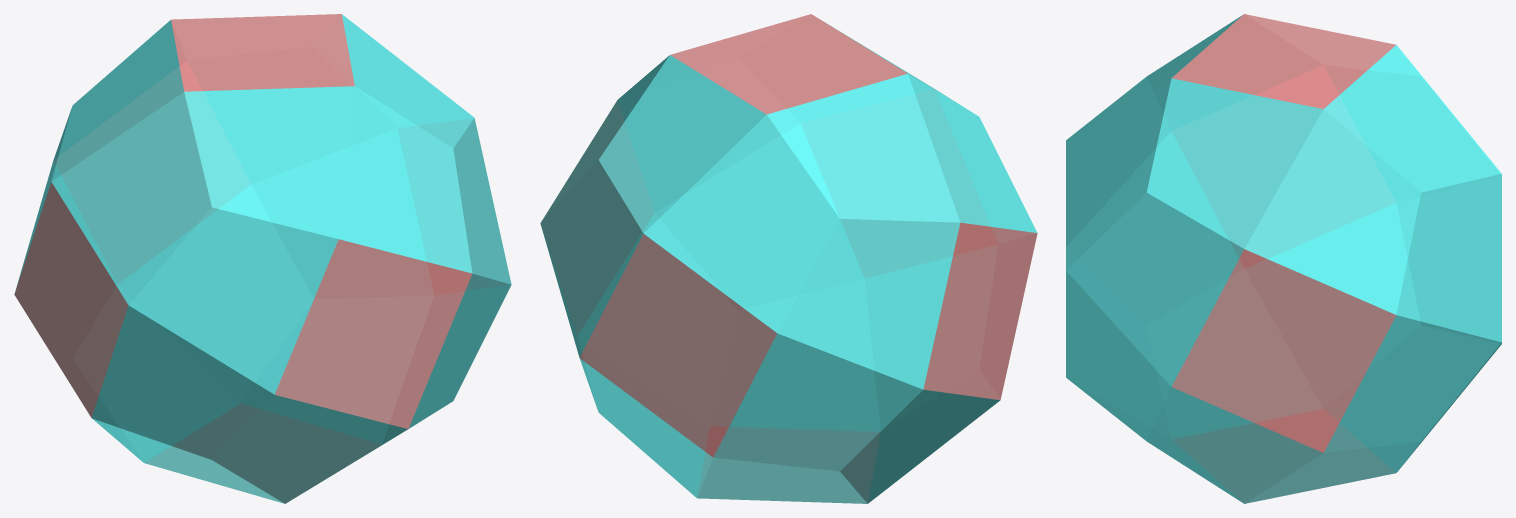
Rendered from PropellorCube.obj.
3 views of the same model, side by side, from view 1: azimuth 30°, elevation 25°; view 2: azimuth 150°, elevation 25°; view 3: azimuth 270°, elevation 25° (orthographic).
Bounding box in the file's own units: 1.87 × 1.87 × 1.87.
